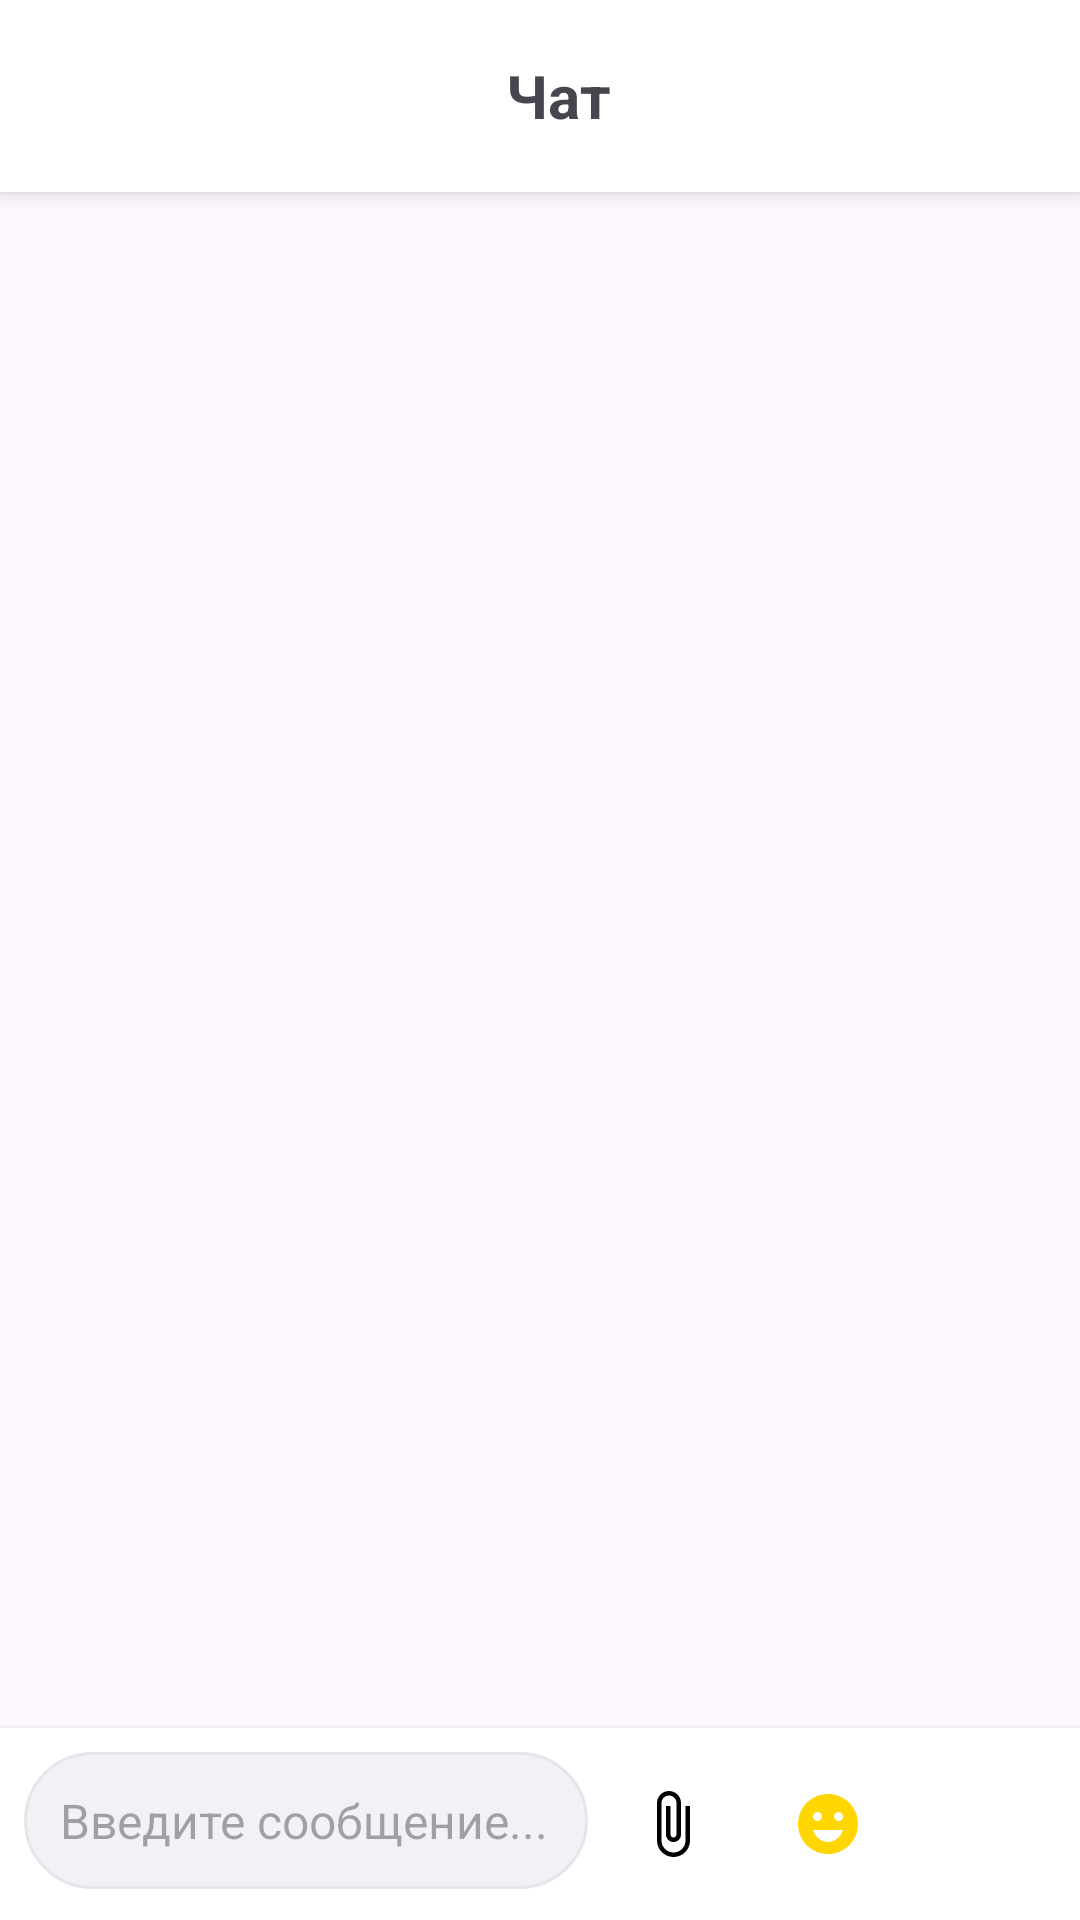

Where to tap for icons on this 1080 x 1920 app screen, as point (x, y):
Прикрепить файл: point (673, 1824)
Эмодзи: point (828, 1824)
